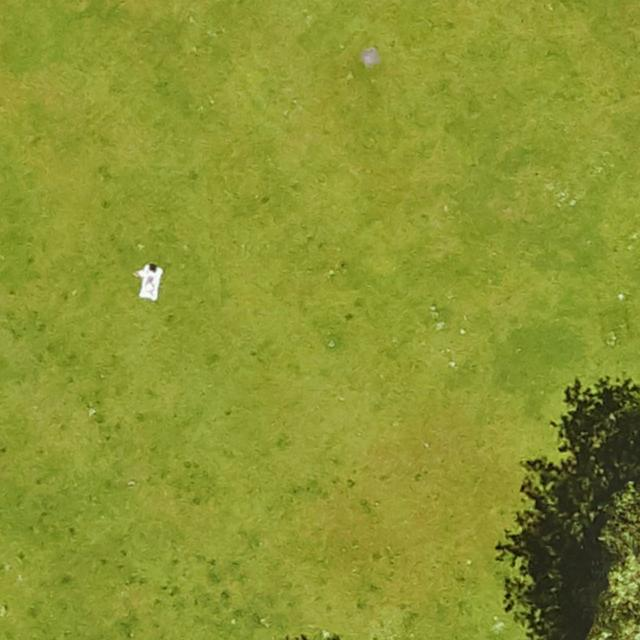tree: (588, 493, 640, 640)
